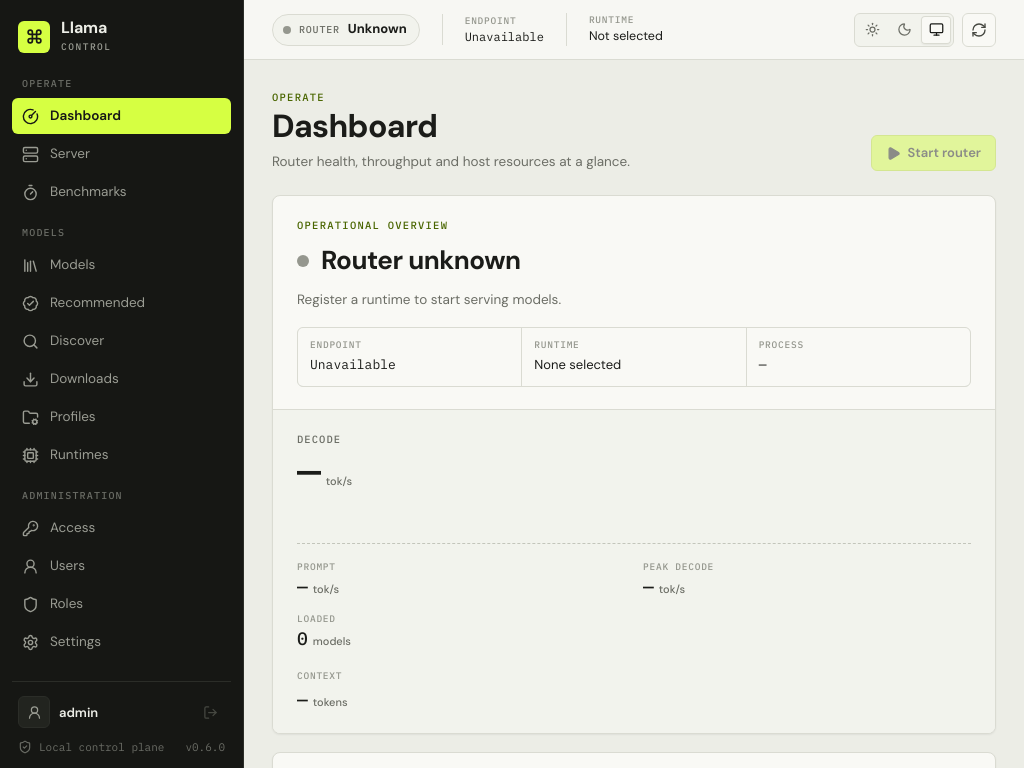
Test: App › clears password fields after a successful password change
The width and height of the screenshot is (1024, 768).
Click the button named "Account": (34, 712) 18,696 -> 50,728
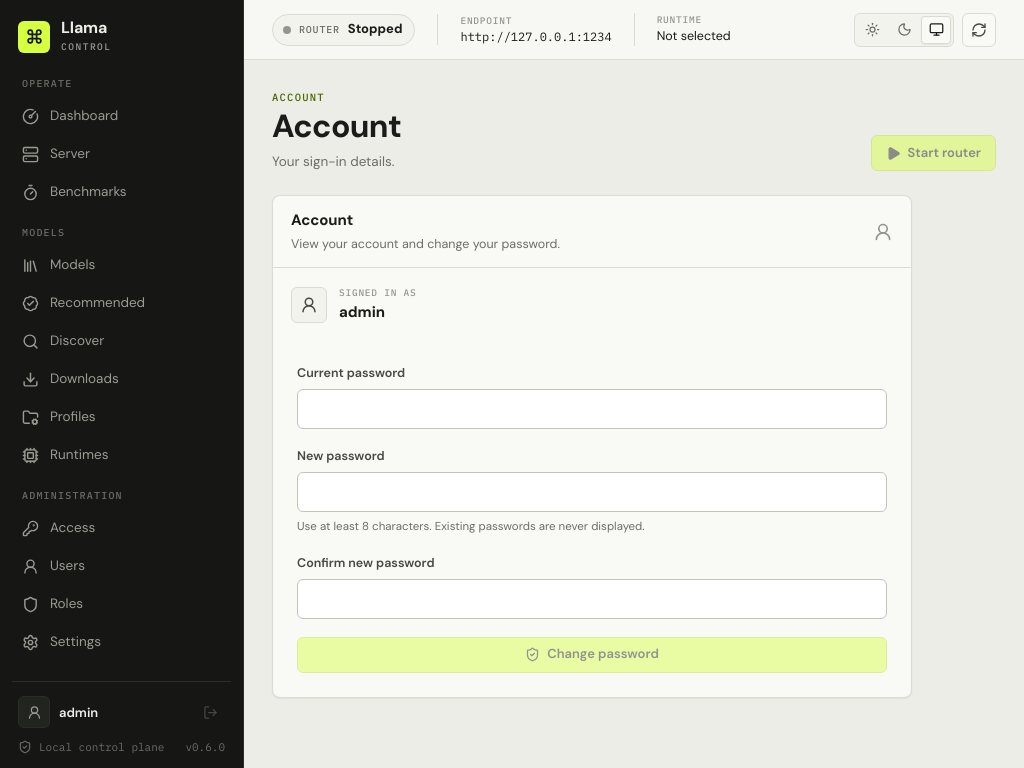
Check: the 2nd heading "Account" is shown, box 291,210 -> 353,230
In the password field labelled "Current password": (592, 409) 297,389 -> 887,429, type "admin"
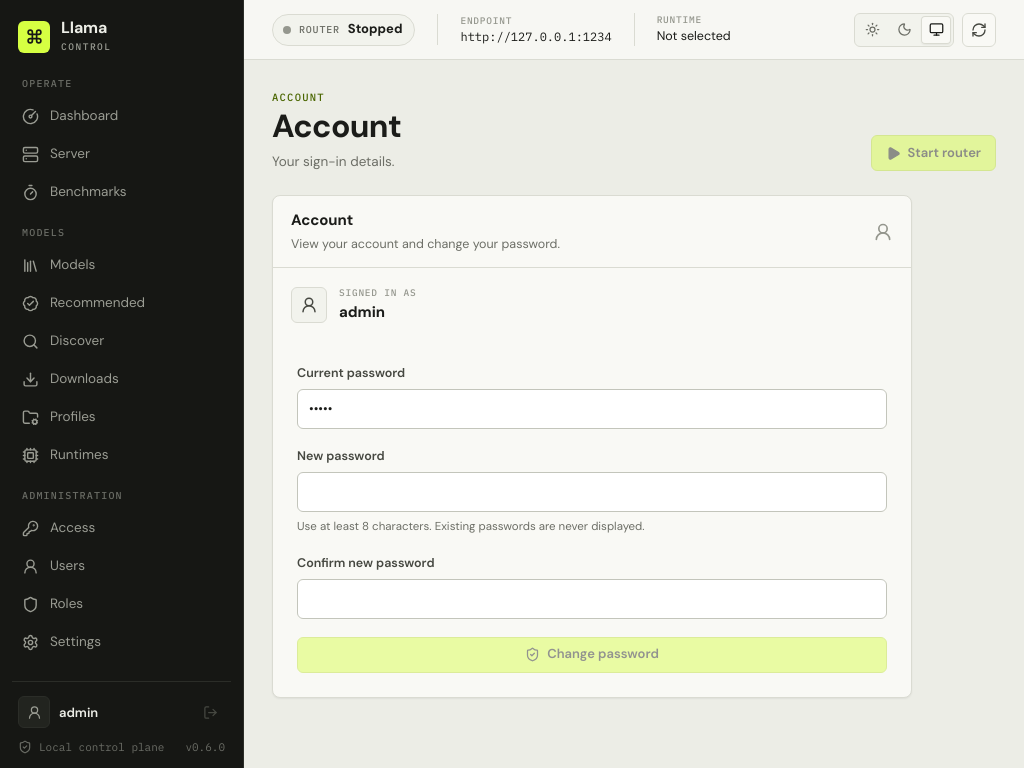
In the password field labelled "New password": (592, 492) 297,472 -> 887,512, type "new-password"
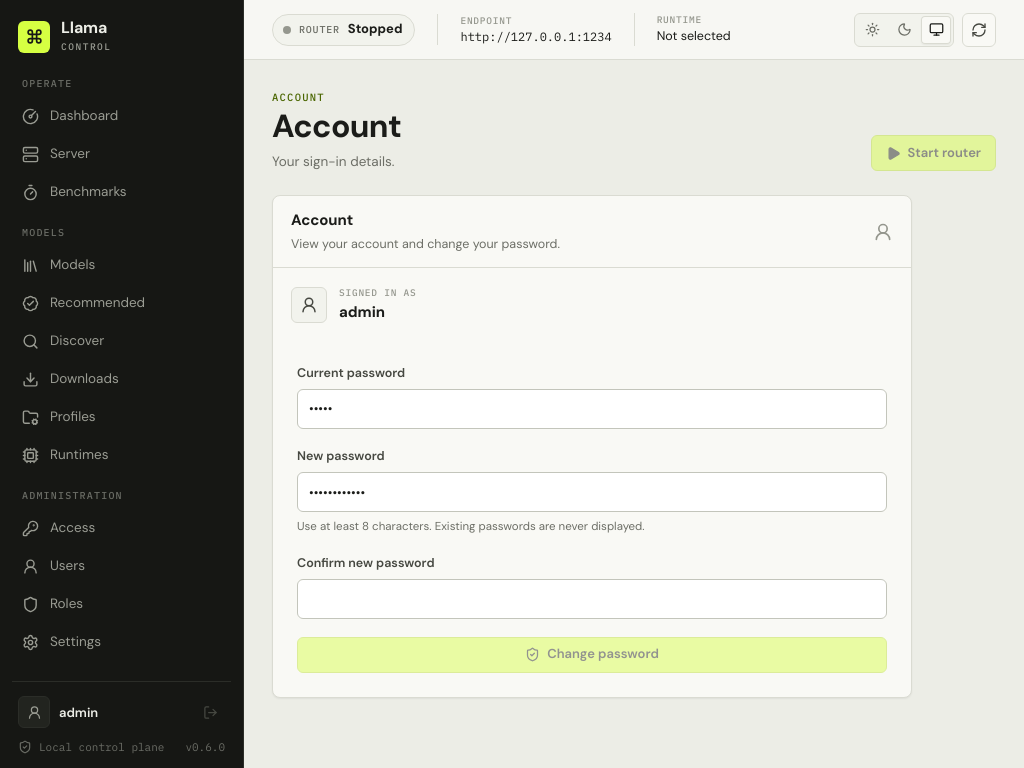
In the password field labelled "Confirm new password": (592, 599) 297,579 -> 887,619, type "new-password"
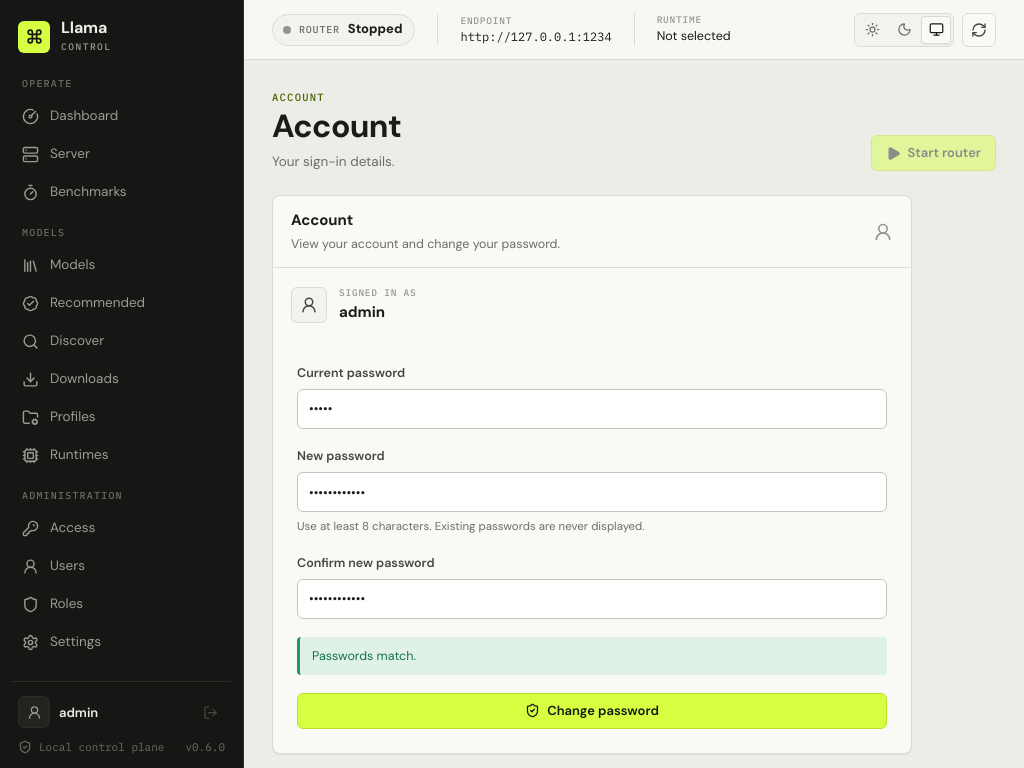
Click the button "Change password": (592, 711) 297,693 -> 887,729
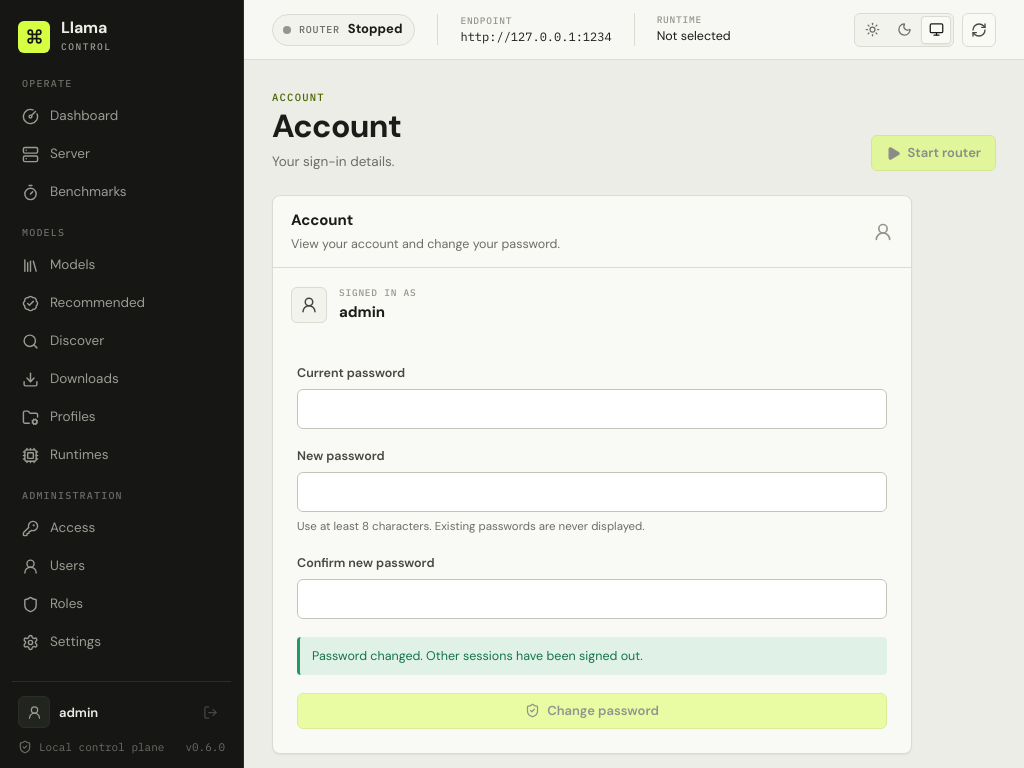
Check: the text "Password changed. Other sessions have been signed out." is shown, box 297,637 -> 887,675
Check: the password field labelled "Current password" is empty, box 297,389 -> 887,429
Check: the password field labelled "New password" is empty, box 297,472 -> 887,512
